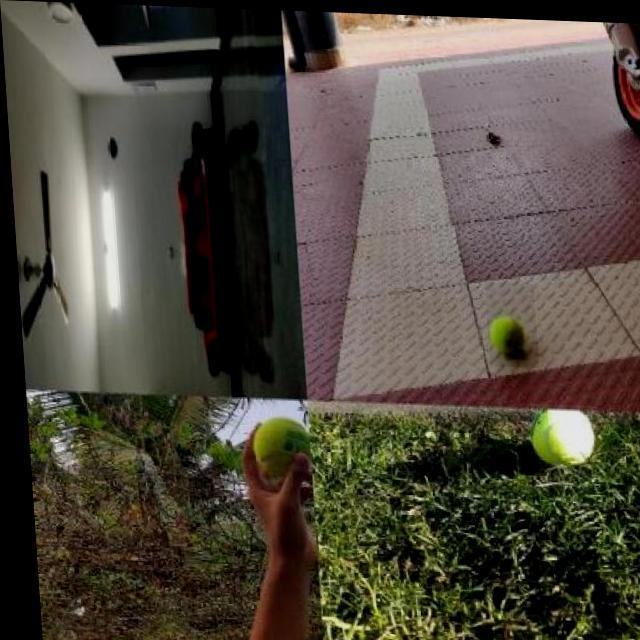-: (526, 399, 596, 484), (481, 279, 534, 364)
